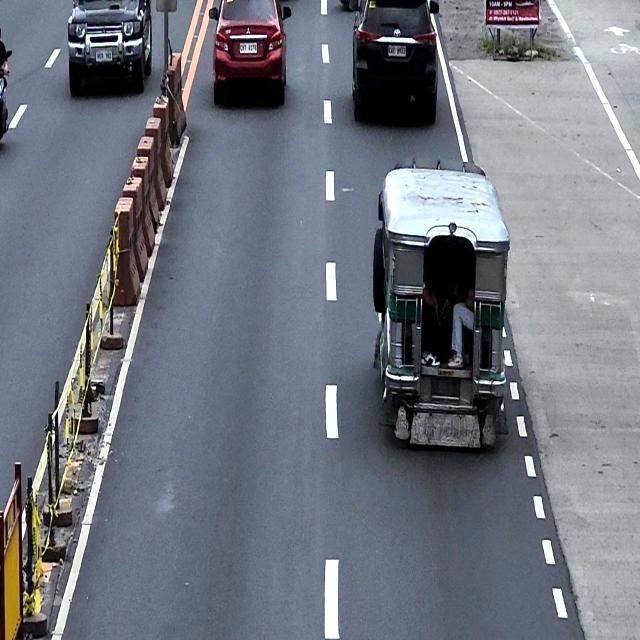Car: (351, 0, 439, 124), (208, 0, 292, 105), (67, 0, 153, 102)
Jeep: (372, 158, 510, 451)
License-Plate: (95, 49, 113, 64), (388, 44, 407, 58), (239, 41, 258, 54)
Motorcycle: (0, 38, 12, 140)
